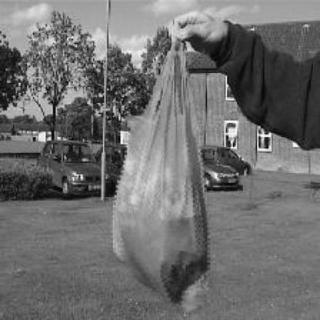other: (113, 40, 219, 308)
